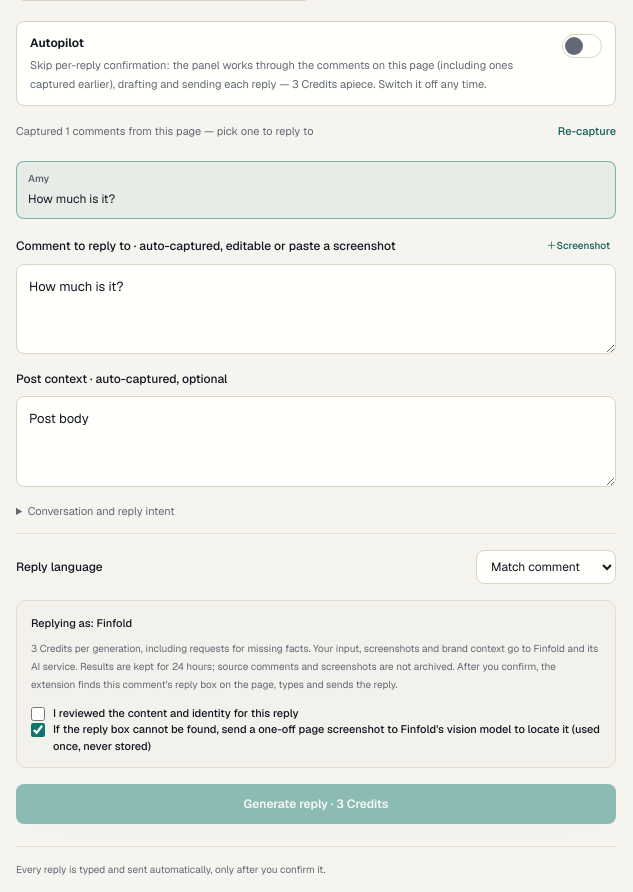
Test: skips the vision fallback when the user switched it off
The width and height of the screenshot is (633, 892).
(page scrolled)
Click the 2nd checkbox: (38, 730) [31, 723, 45, 737]
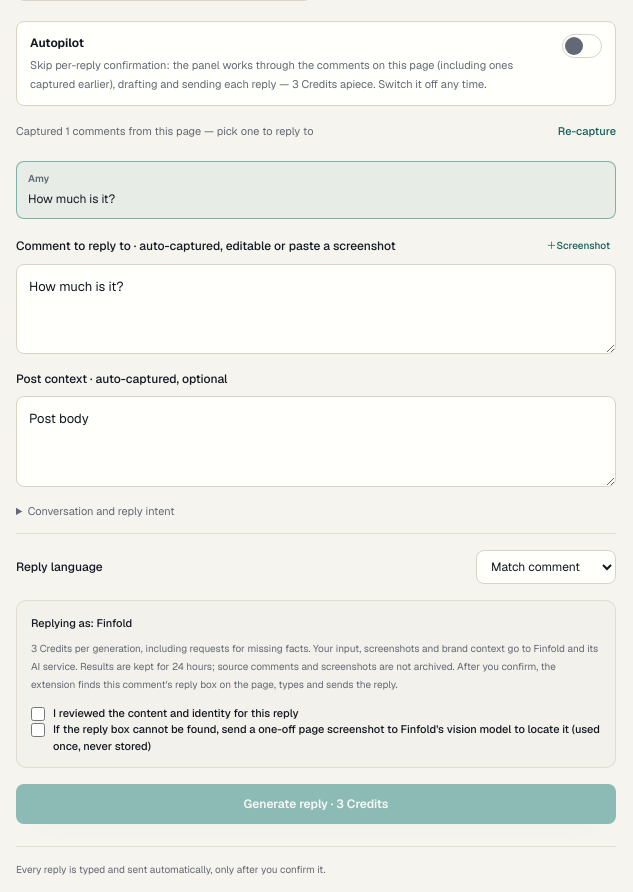
Click the checkbox labelled "I reviewed the content and identity for this reply": (38, 714) [31, 707, 45, 721]
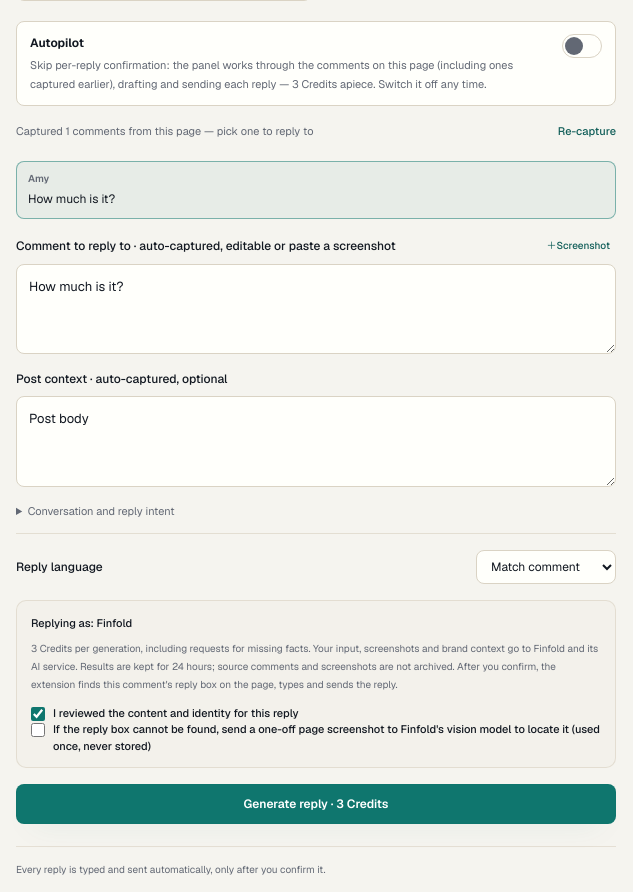
Click the button "Generate reply · 3 Credits": (316, 804) [16, 784, 616, 824]
(page scrolled)
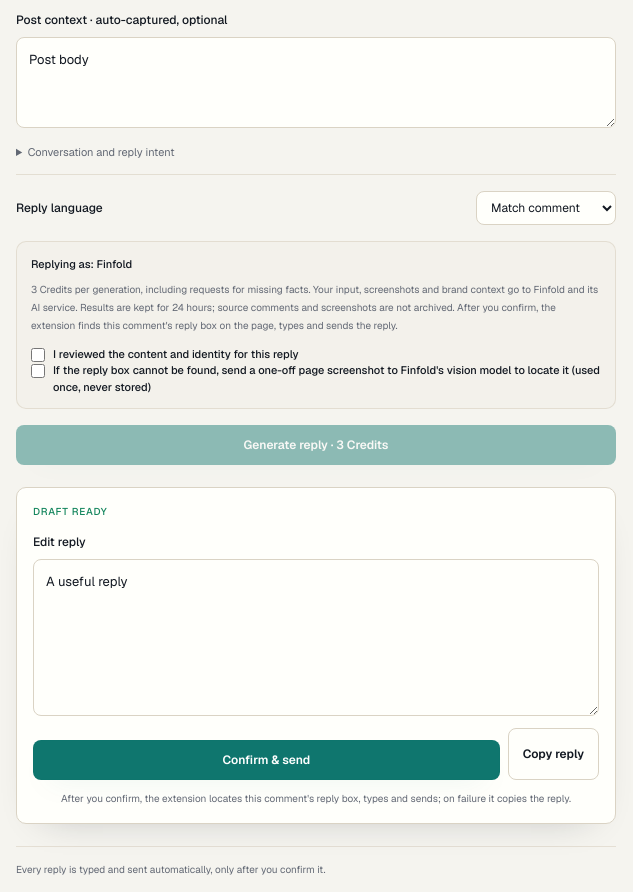
Click the button "Confirm & send": (266, 760) [33, 740, 500, 780]
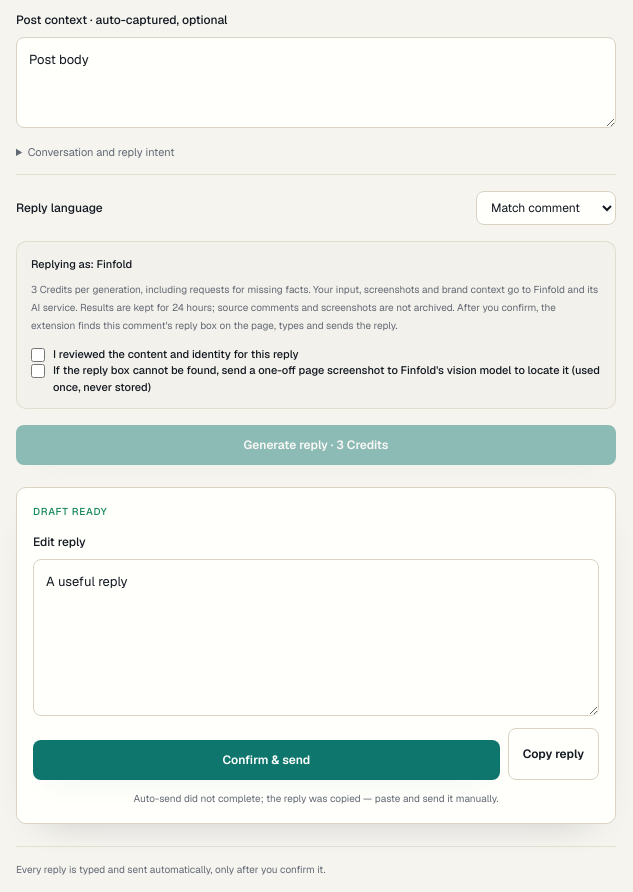
Result: the text "the reply was copied" is shown at [134, 792, 498, 805]
